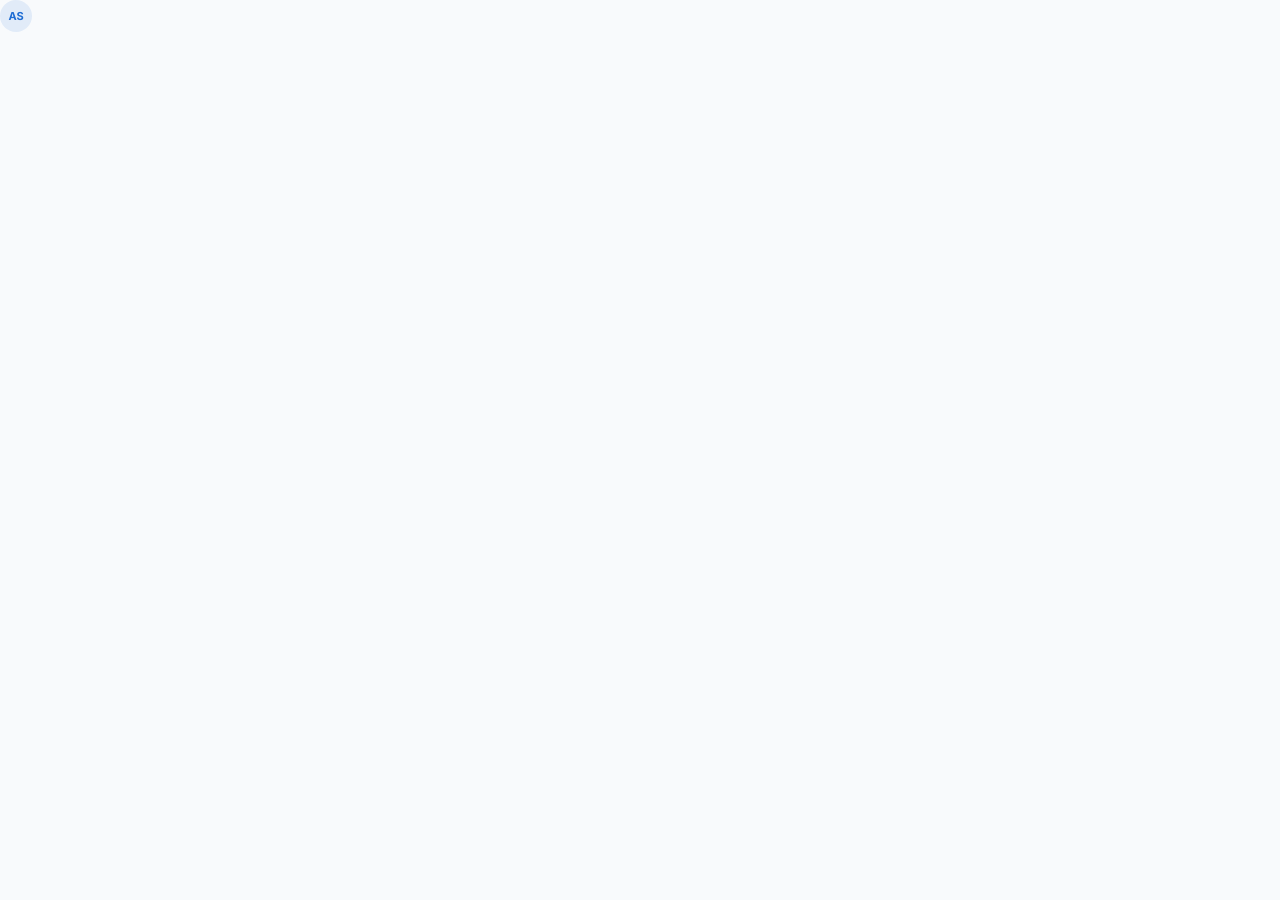
Test: Menu do utilizador › mostra o perfil, Definições, instalar e terminar sessão
Later steps or results of the test are not shown.
What coordinates should you click on to do the following:
click the button with aria-label "Menu do utilizador"
I would click on:
 (16, 16)
Its box is left=0, top=0, right=32, bottom=32.
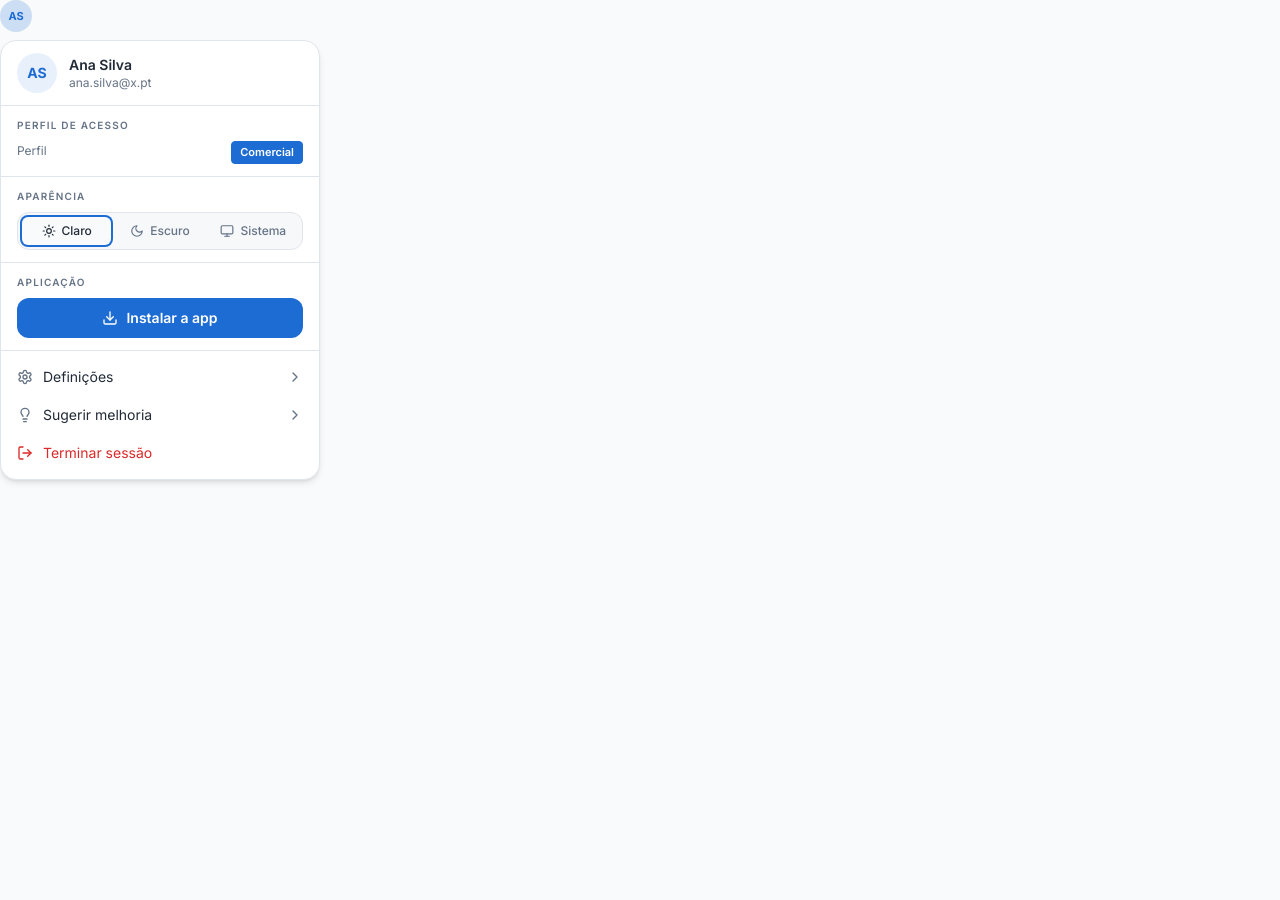
Result: the text "Ana Silva" is shown at left=69, top=56, right=132, bottom=73
Result: the text "ana.silva@x.pt" is shown at left=69, top=75, right=152, bottom=91
Result: the text "Comercial" is shown at left=231, top=141, right=303, bottom=164
